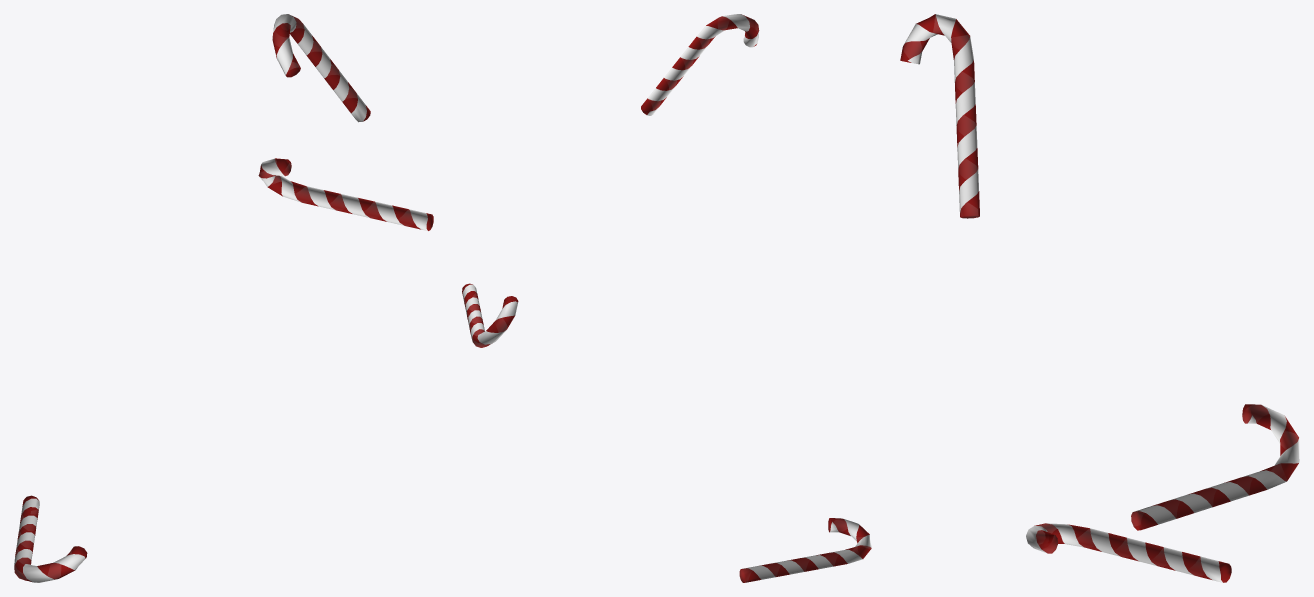
File: candycanes.glb
The picture shows the model from 3 angles, left to right: view 1: azimuth 30°, elevation 25°; view 2: azimuth 150°, elevation 25°; view 3: azimuth 270°, elevation 25°; orthographic projection. The views are drawn at different scales.
Parts seen in each view (by area): view 1: startpointcandycane.003, startpointcandycane.002, startpointcandycane.001; view 2: startpointcandycane.001, startpointcandycane.002, startpointcandycane.003; view 3: startpointcandycane.002, startpointcandycane.003, startpointcandycane.001.
Part boxes in pixels (x1,y1,x2,y2): startpointcandycane.003: [258, 158, 433, 230]; startpointcandycane.002: [272, 14, 370, 122]; startpointcandycane.001: [14, 495, 87, 582]; startpointcandycane.001: [739, 518, 871, 582]; startpointcandycane.002: [641, 14, 759, 115]; startpointcandycane.003: [462, 283, 518, 347]; startpointcandycane.002: [900, 14, 979, 218]; startpointcandycane.003: [1131, 404, 1299, 530]; startpointcandycane.001: [1026, 523, 1231, 582].
Bounding box in the file's own units: 30.47 × 36.02 × 20.25.
